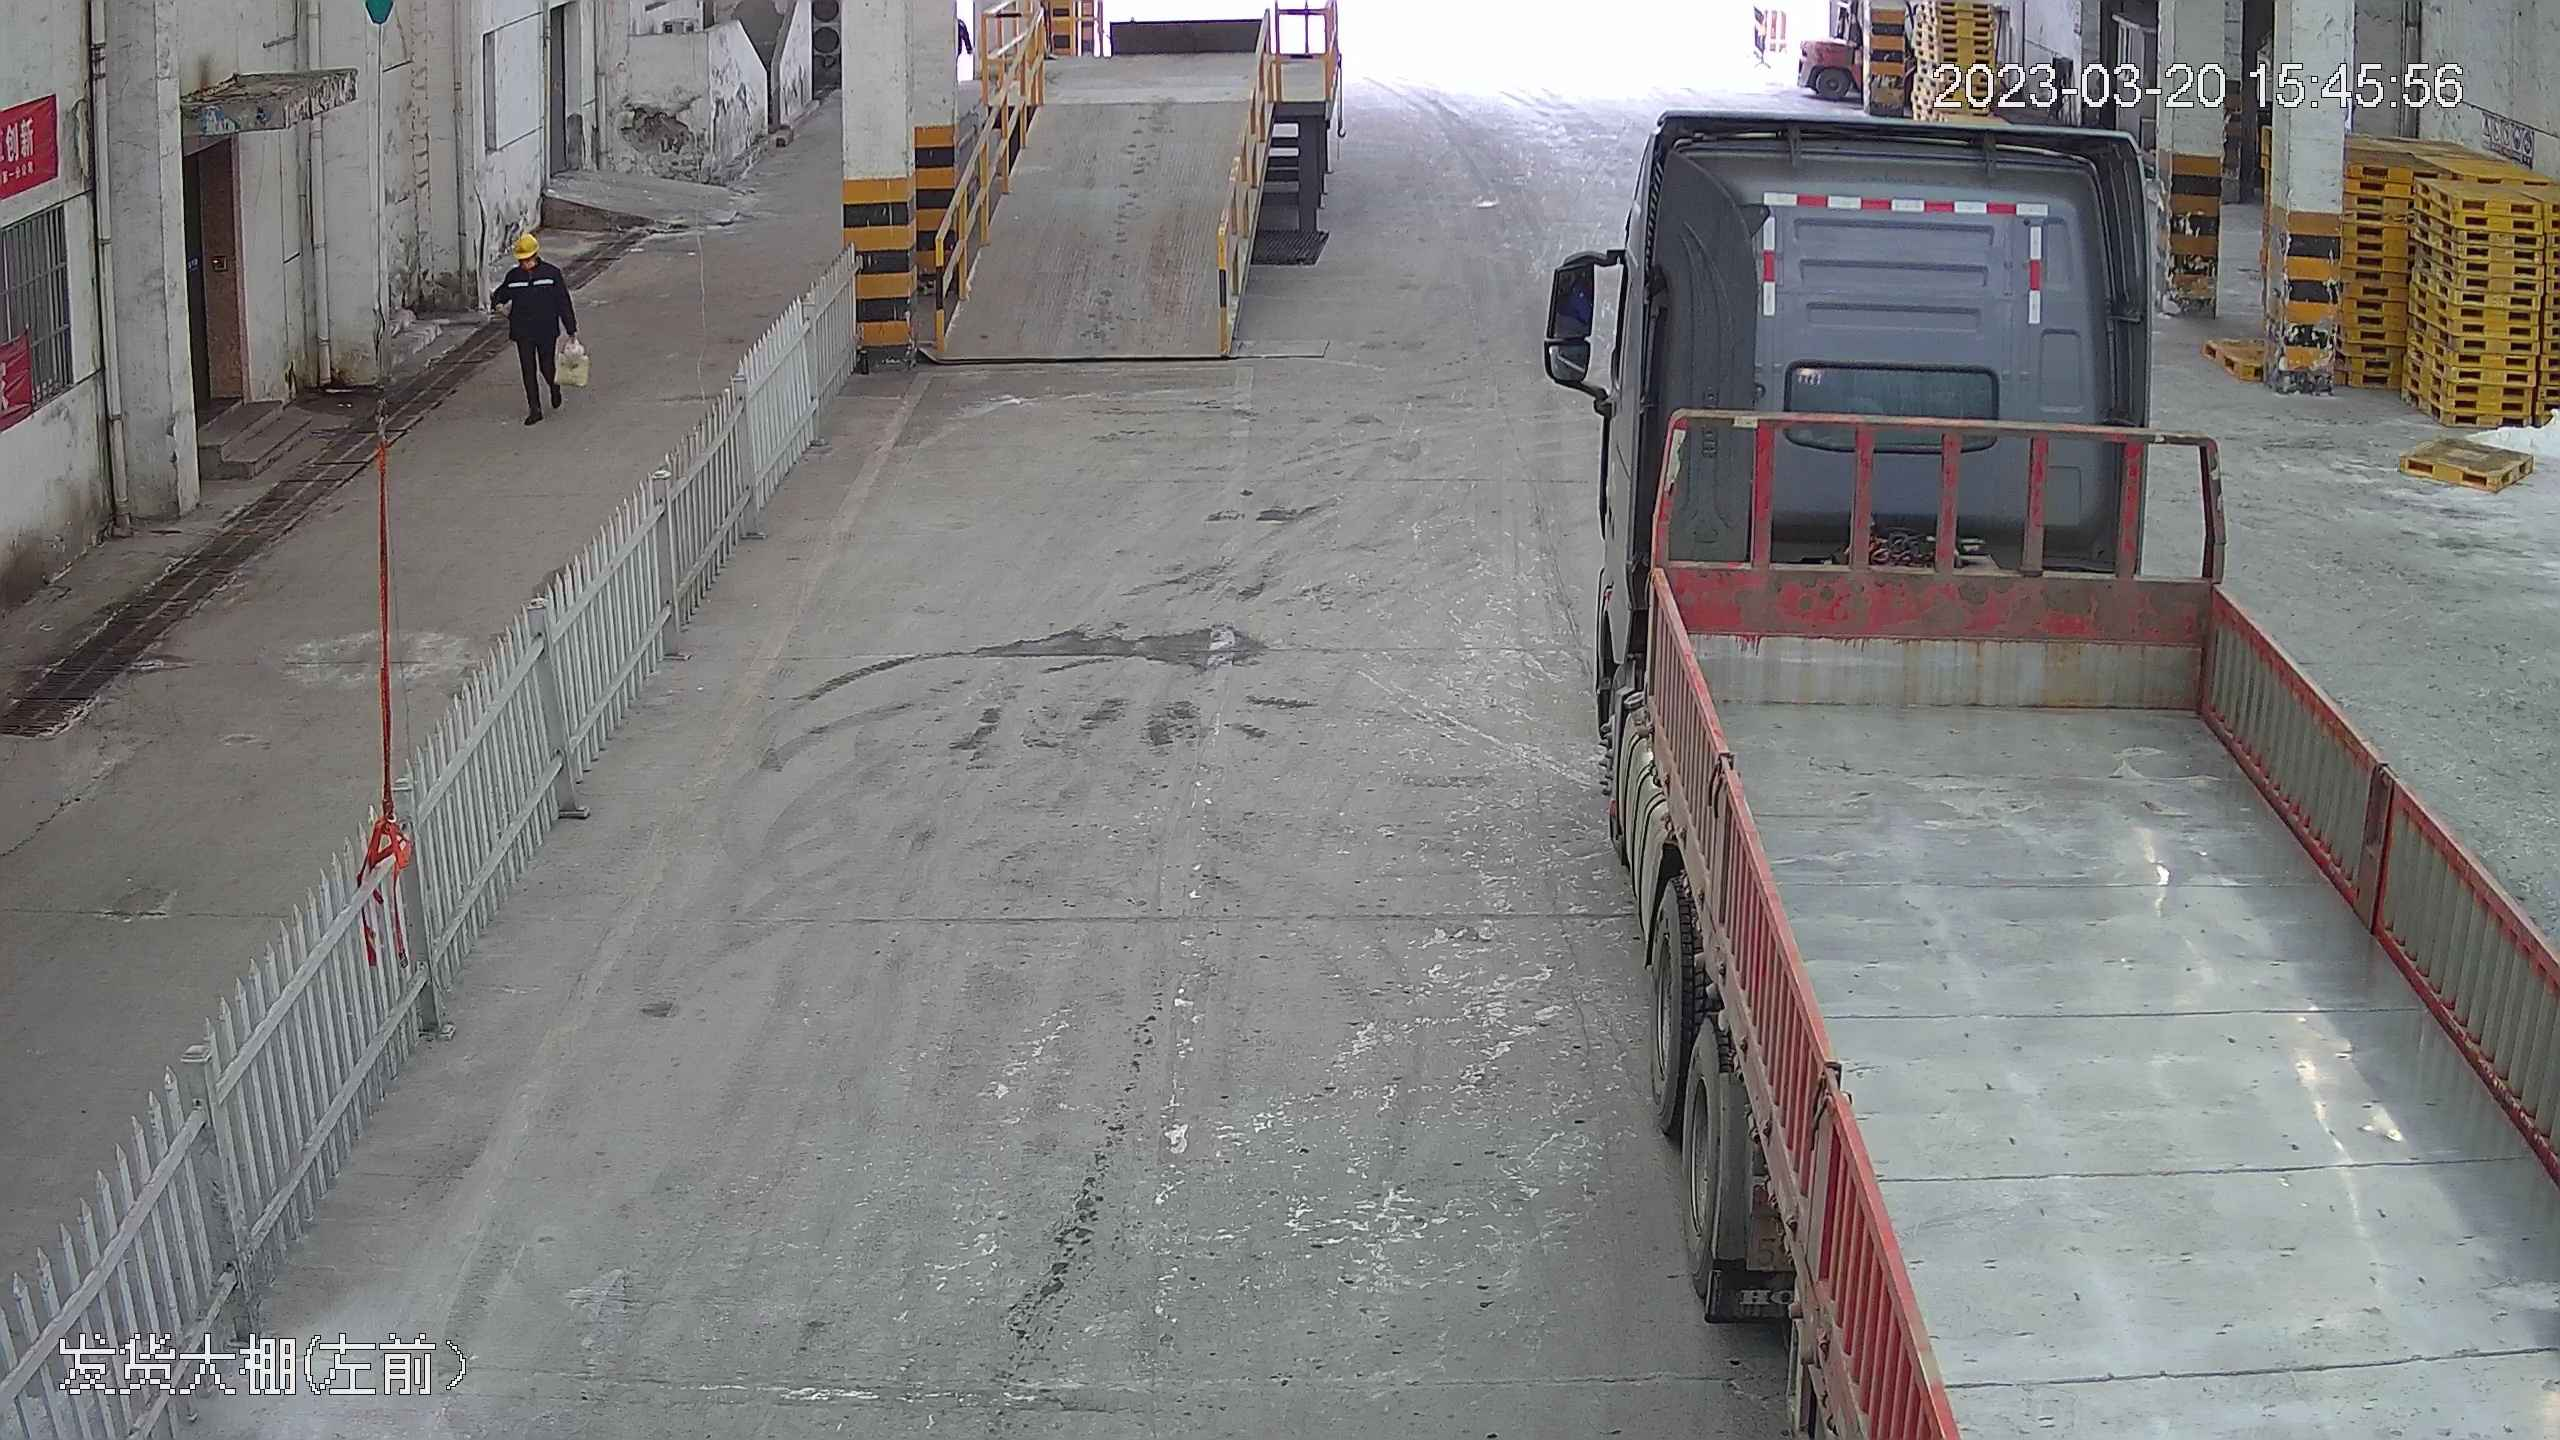head: (499, 228, 567, 294)
helmet: (508, 228, 542, 257)
people: (490, 225, 580, 426)
truck: (1560, 97, 2560, 1440)
